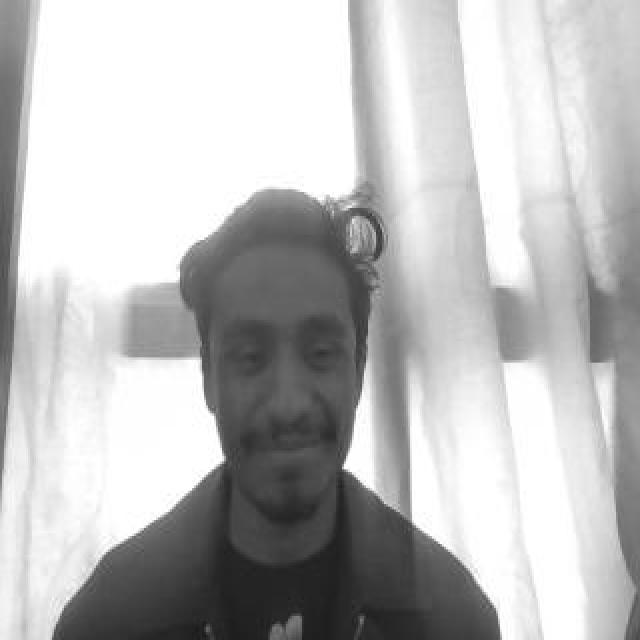Focused: (211, 248, 369, 515)
